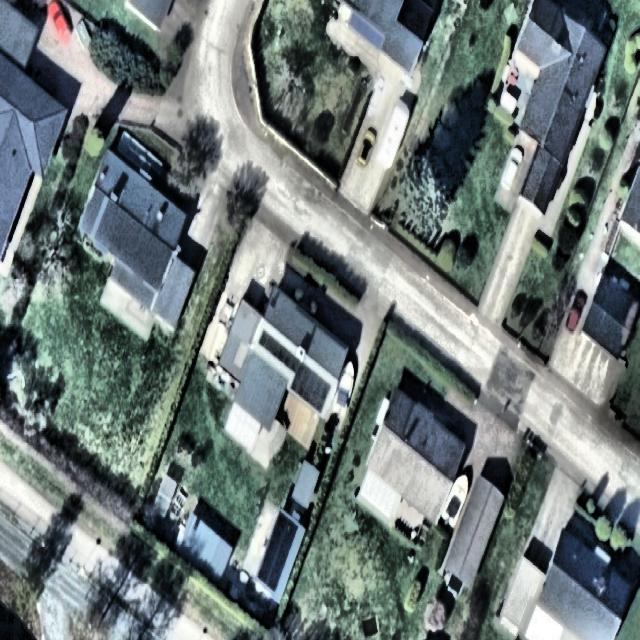roof_pv: (258, 324, 299, 378), (290, 360, 330, 409)
